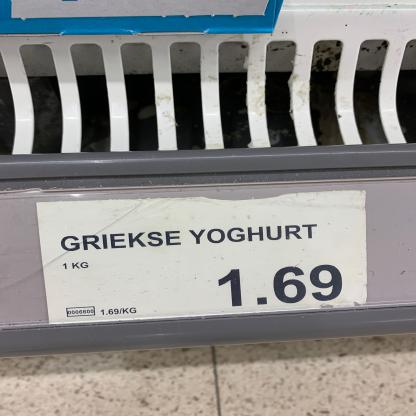prtg: (38, 190, 369, 325)
